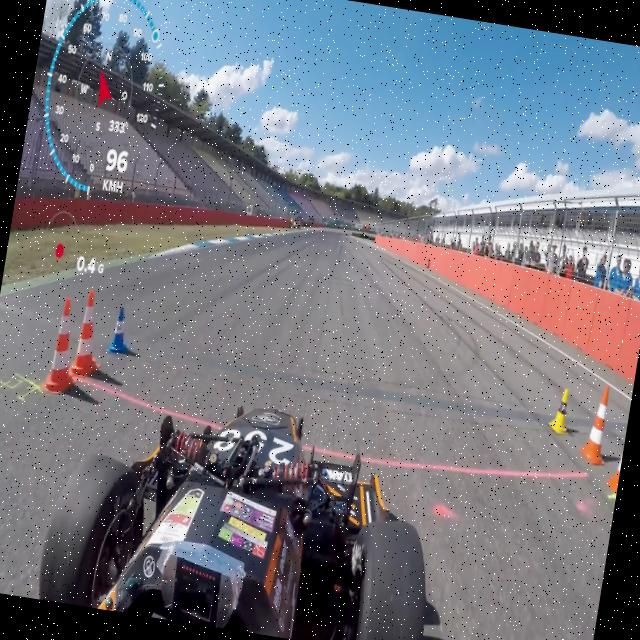blue_cone: (108, 302, 134, 358)
large_orange_cone: (40, 296, 87, 398), (71, 288, 111, 388), (579, 382, 618, 466), (606, 402, 630, 495)
yellow_cone: (546, 379, 576, 436)
